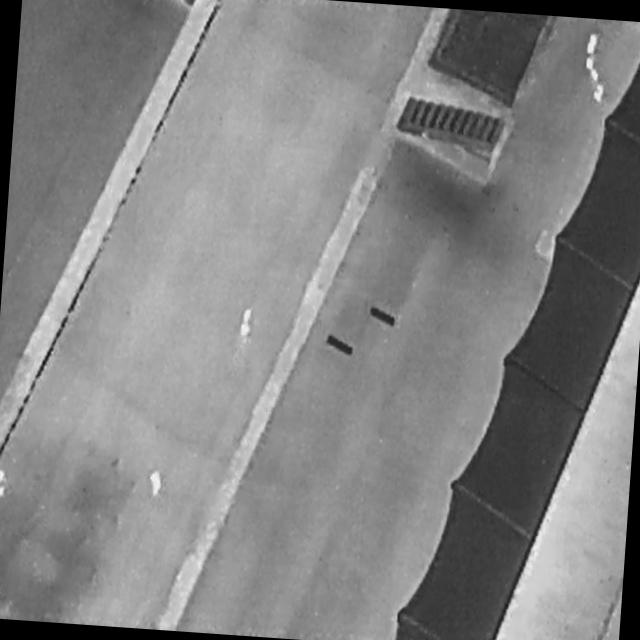person: (148, 469, 163, 502), (240, 306, 254, 341), (1, 467, 9, 500)
